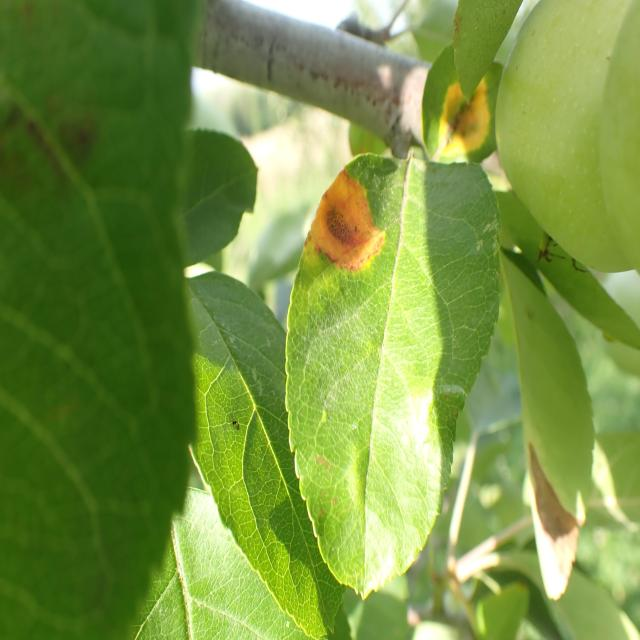Rust: (294, 154, 398, 290), (432, 68, 501, 170)
